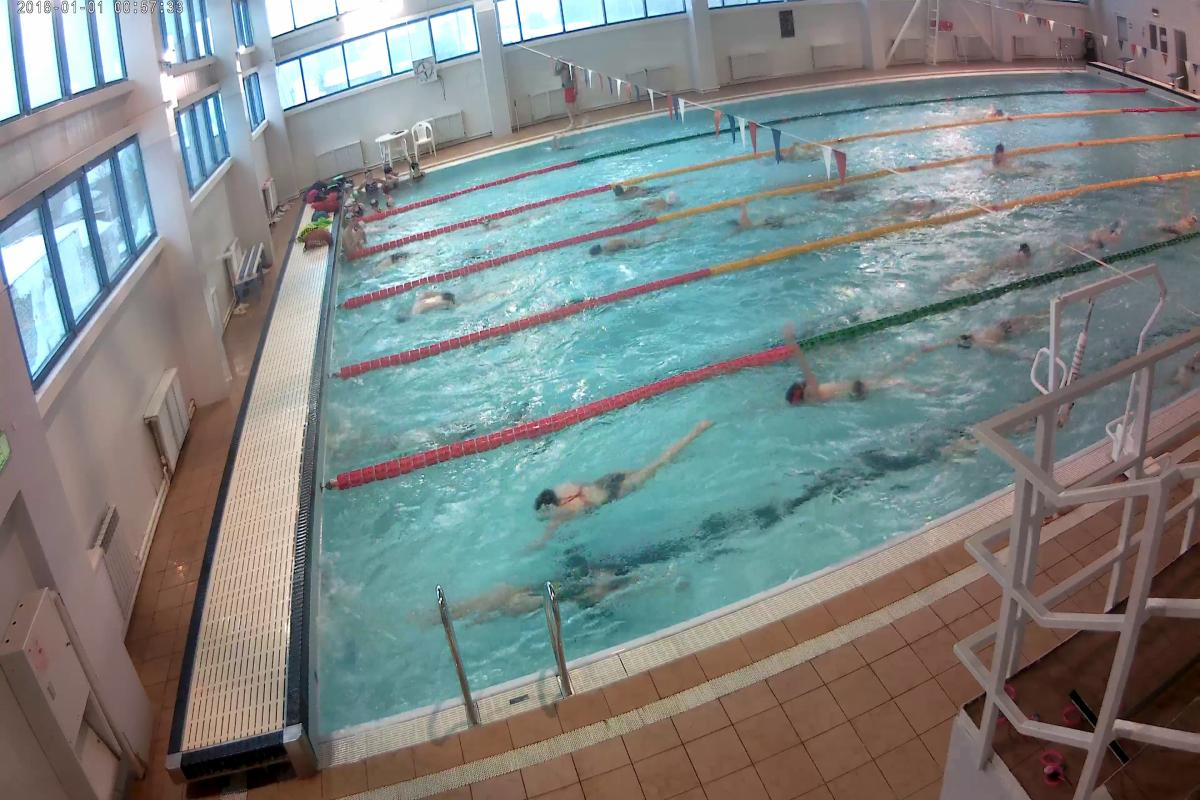swimmer: (516, 433, 698, 540), (772, 360, 905, 420), (938, 312, 1029, 363), (966, 236, 1037, 280), (581, 228, 659, 263), (1068, 214, 1128, 258), (403, 288, 462, 325), (724, 202, 778, 241), (886, 185, 938, 219), (982, 135, 1021, 175), (639, 194, 683, 214), (616, 180, 640, 205)
